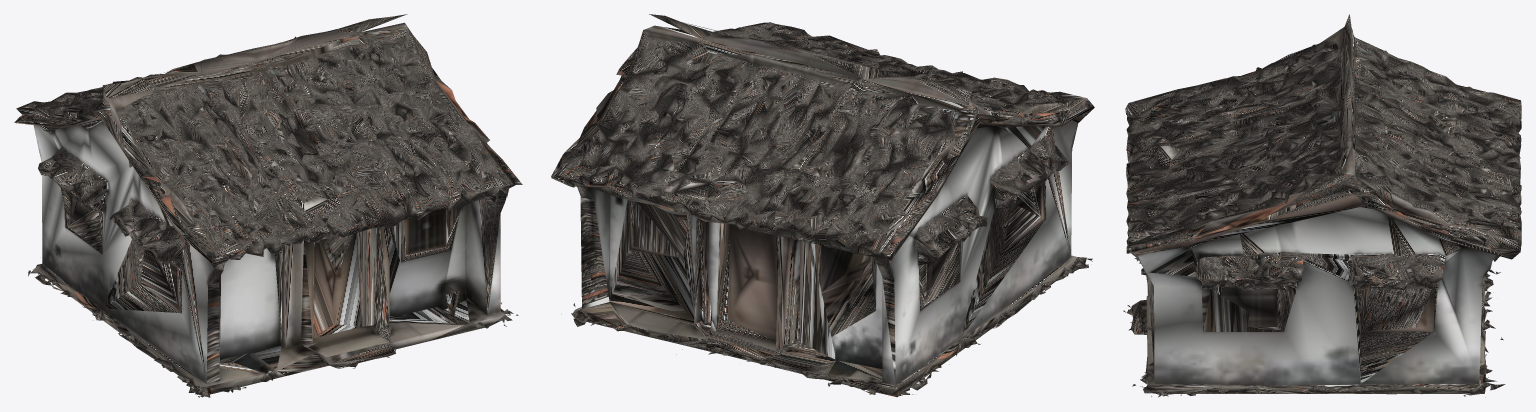
File: bq_house_tiled.lod1.glb
The picture shows the model from 3 angles, left to right: view 1: azimuth 30°, elevation 25°; view 2: azimuth 150°, elevation 25°; view 3: azimuth 270°, elevation 25°; orthographic projection. The views are drawn at different scales.
Size of the model in its own units: 1.96 by 1.29 by 1.99.
1 material, 1 textured.
